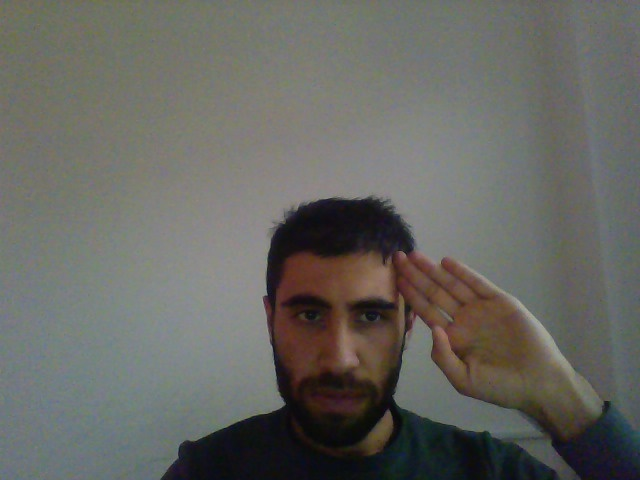Hello: (388, 246, 587, 423)
